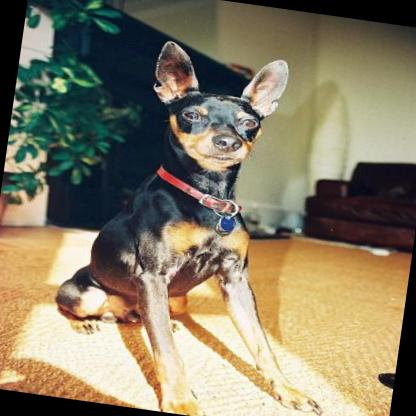miniature_pinscher: (36, 24, 369, 416)
